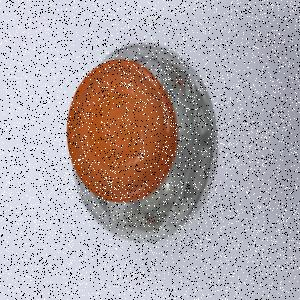Plastic-bottle: (67, 43, 220, 243)
